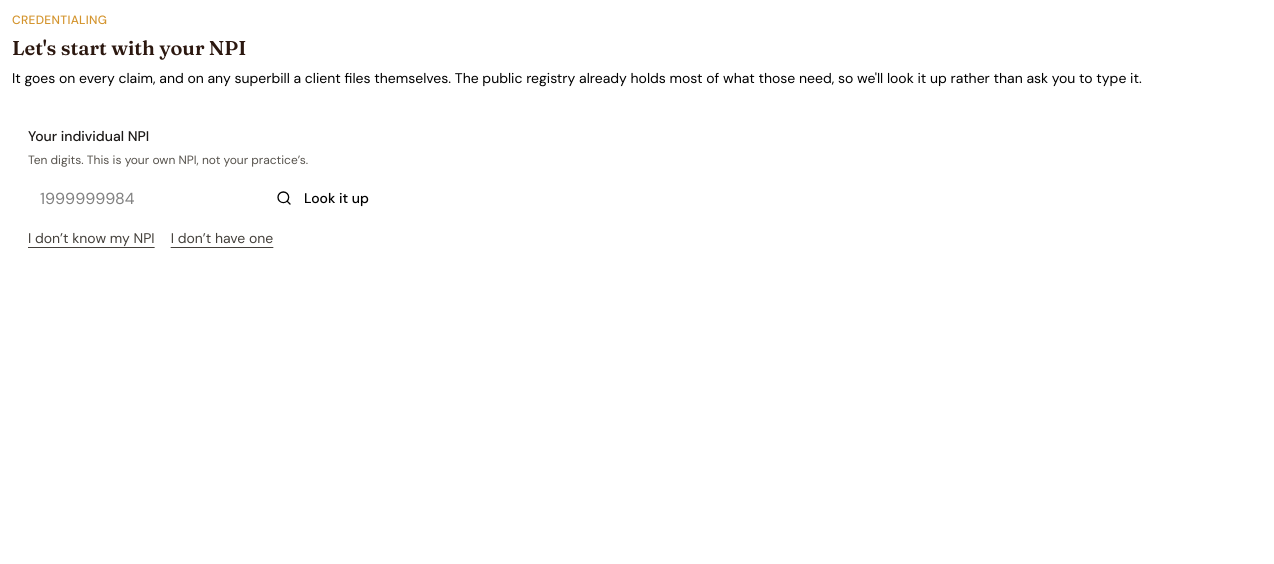
Test: the three doors › does not treat 'no NPI' as an error
Click the button "I don’t have one" at (222, 238), box [171,228,273,248]
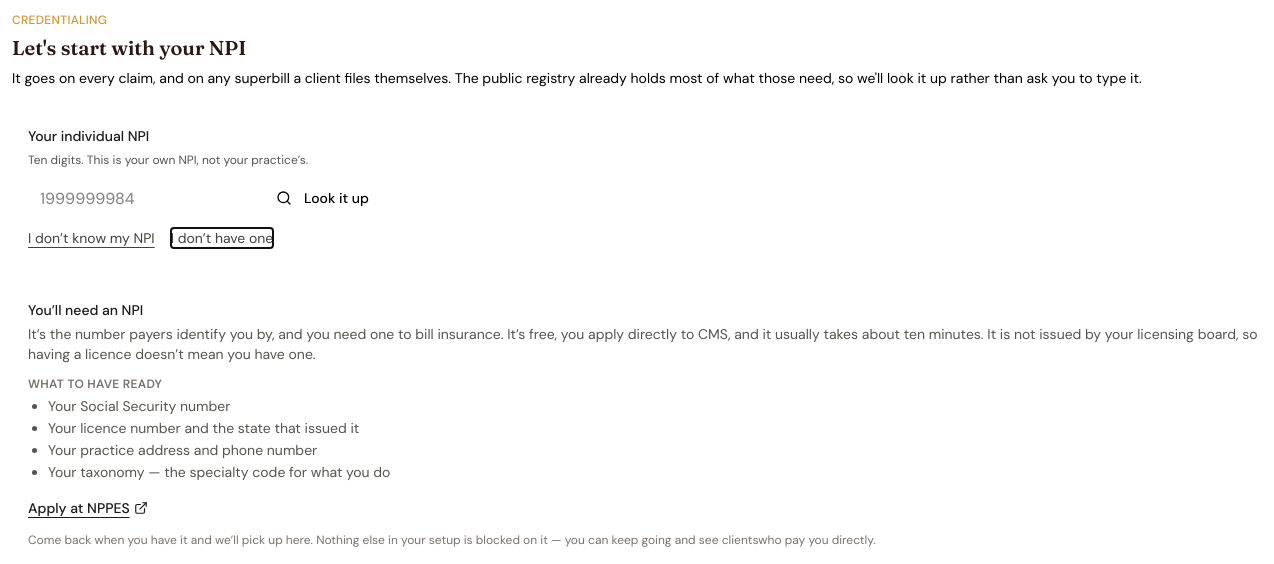
expect the text "You’ll need an NPI" is shown: met, box [28,301,143,319]
expect the text "free" is shown: met, box [28,325,1258,363]
